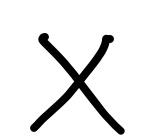mult: (30, 32, 127, 135)
